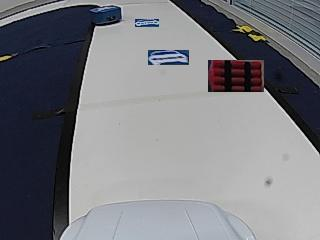prop: (90, 6, 121, 26)
